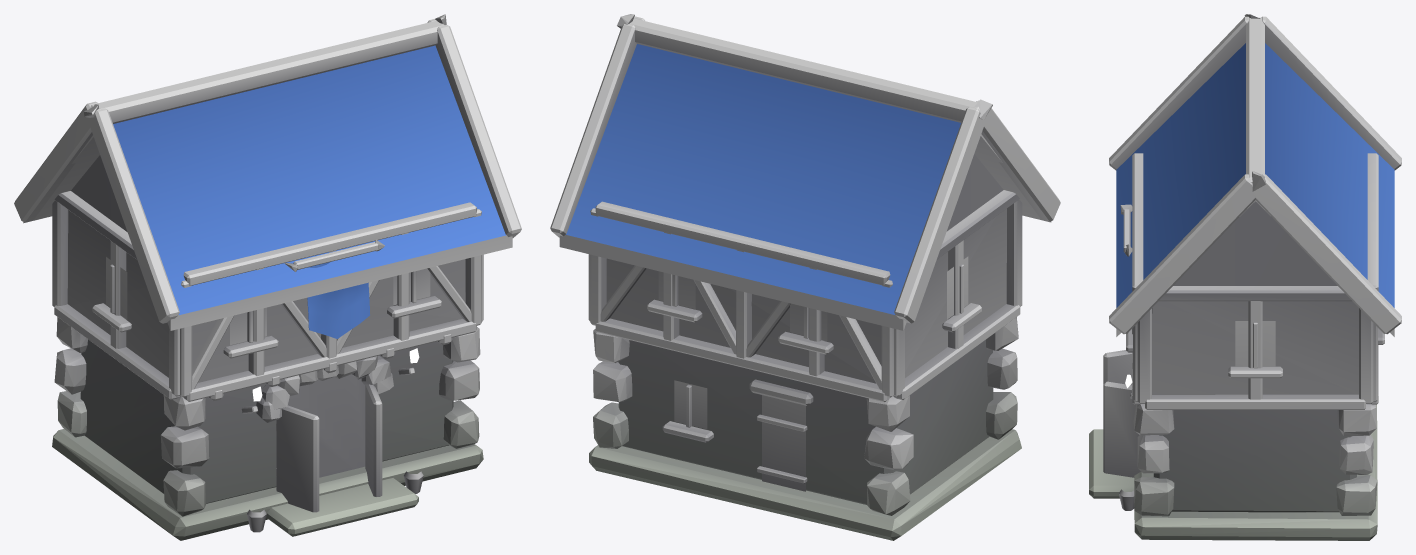
Rendered from barracks_0_1.glb.
The picture shows the model from 3 angles, left to right: view 1: azimuth 30°, elevation 25°; view 2: azimuth 150°, elevation 25°; view 3: azimuth 270°, elevation 25°; orthographic projection. The views are drawn at different scales.
Parts seen in each view (by area): view 1: Tower; view 2: Tower; view 3: Tower.
Boxes of the visible parts, x1=… form: Tower: x1=14, y1=14, x2=521, y2=540; Tower: x1=550, y1=14, x2=1060, y2=540; Tower: x1=1089, y1=14, x2=1401, y2=540.
Size of the model in its own units: 3.33 by 3.53 by 2.63.
